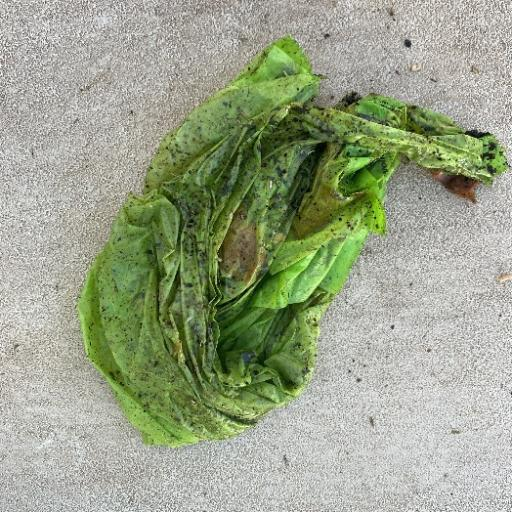Waste: (75, 34, 508, 449)
